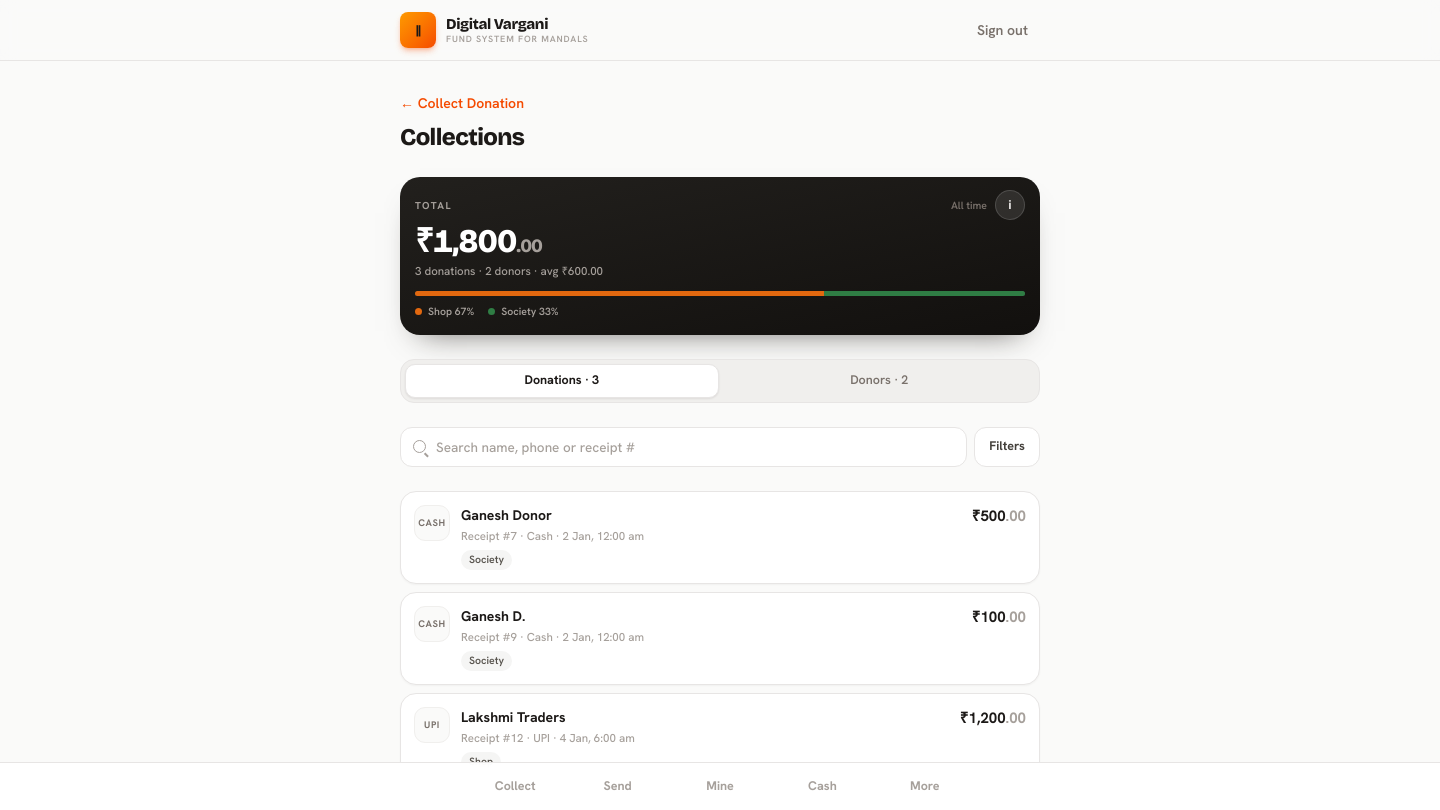
it: CollectionsContent — the Collections & donors tab › donors view › groups the same filtered money by person
Expected: the text "Ganesh Donor" is shown, [461, 506, 552, 524]
Click the button "Donors · 2" at x=879, y=381, box [724, 364, 1035, 398]
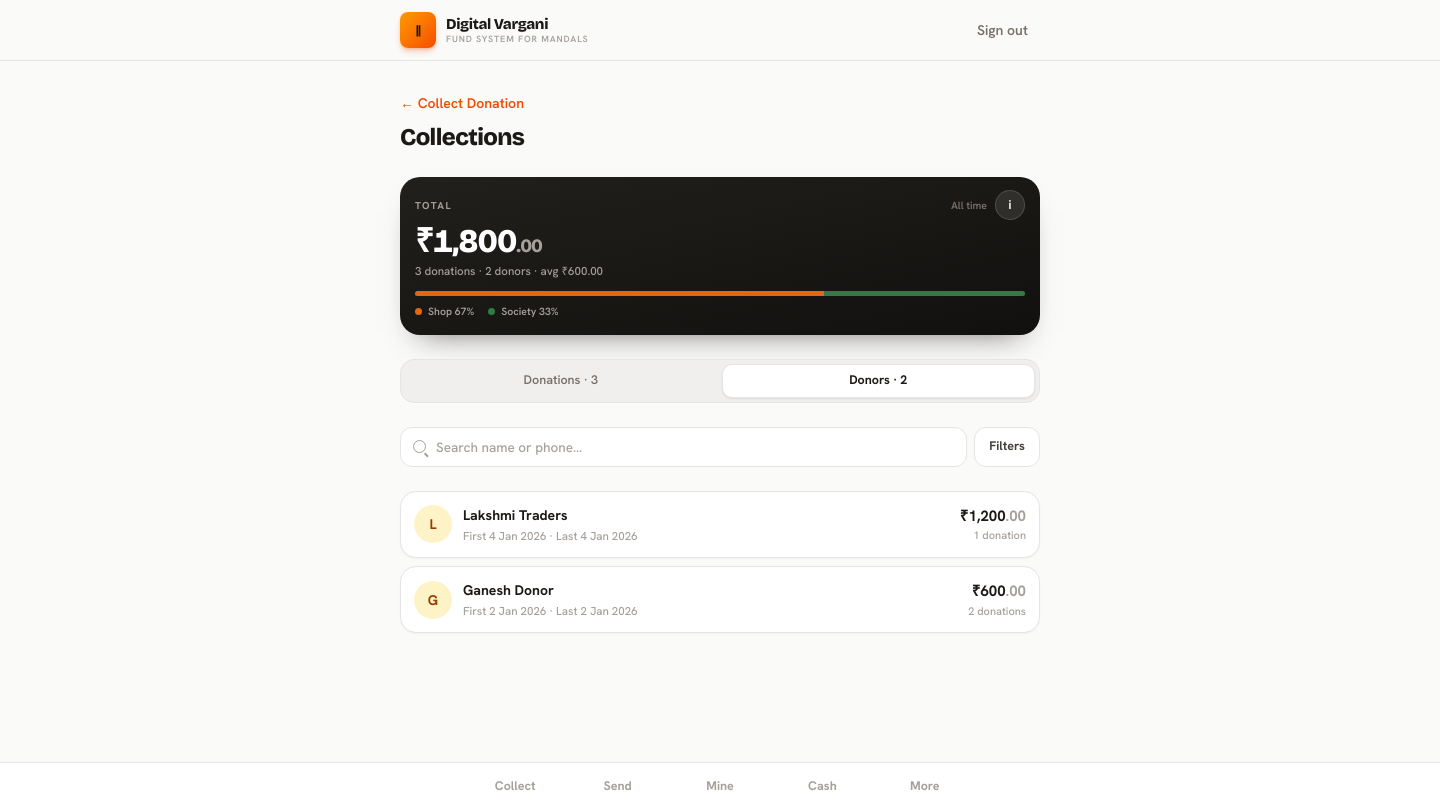
Now the number of buttons "First " is 2, box [400, 491, 1040, 558]; [400, 566, 1040, 633]
